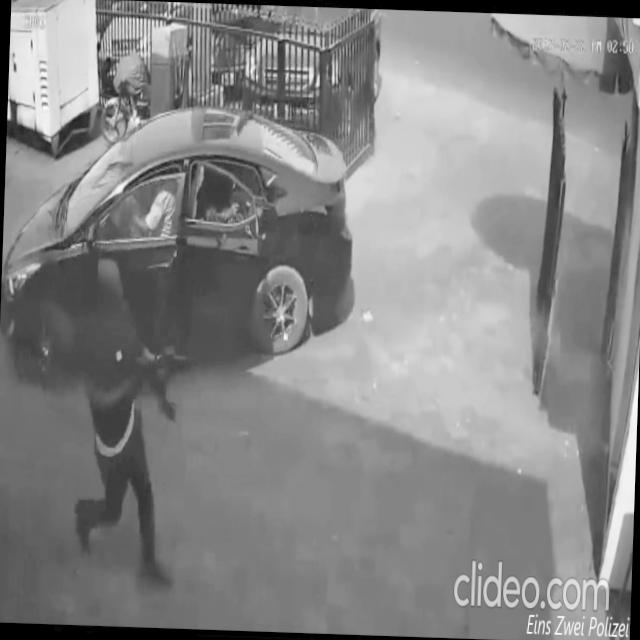gun: (122, 341, 196, 418), (222, 185, 278, 242)
person with a gun: (69, 250, 200, 589), (200, 172, 280, 242)
